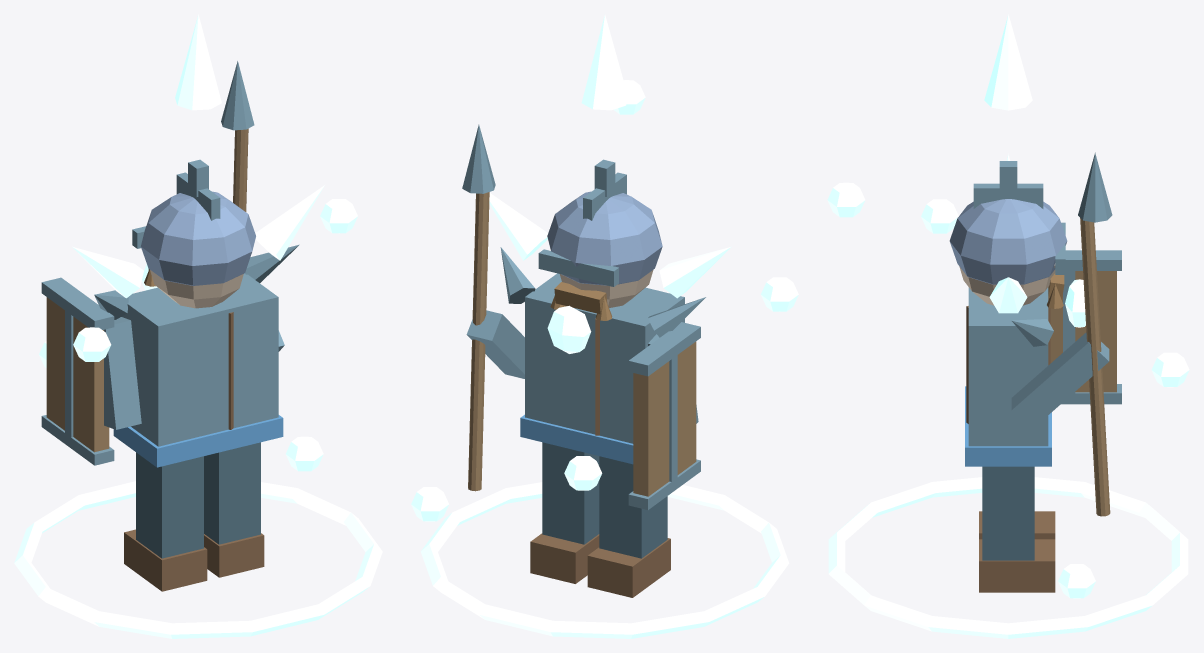
File: evolved_royal_recruits.glb
3 views of the same model, side by side, from view 1: azimuth 30°, elevation 25°; view 2: azimuth 150°, elevation 25°; view 3: azimuth 270°, elevation 25° (orthographic).
Visible parts, largest first — view 1: evolved_royal_recruits; view 2: evolved_royal_recruits; view 3: evolved_royal_recruits.
Part boxes in pixels (x1,y1,x2,y2): evolved_royal_recruits: (14,14,382,638); evolved_royal_recruits: (411,15,798,638); evolved_royal_recruits: (827,14,1189,638).
Size of the model in its own units: 2.34 by 3.88 by 2.3.
